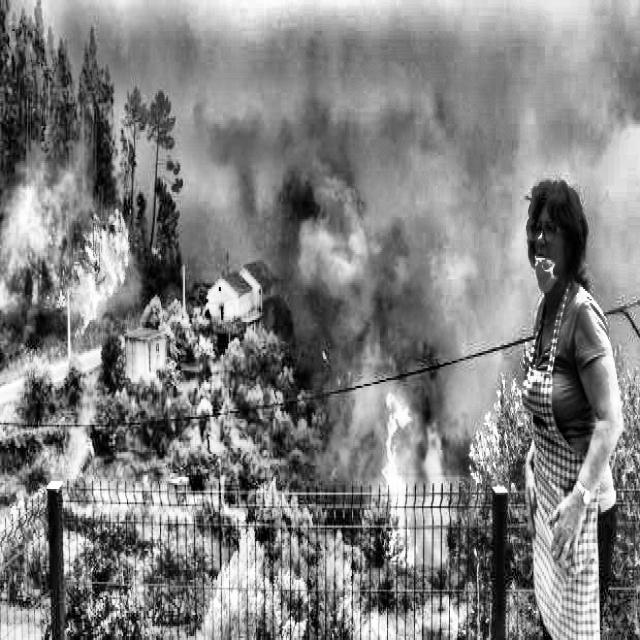fire: (325, 325, 455, 618), (51, 175, 142, 352)
